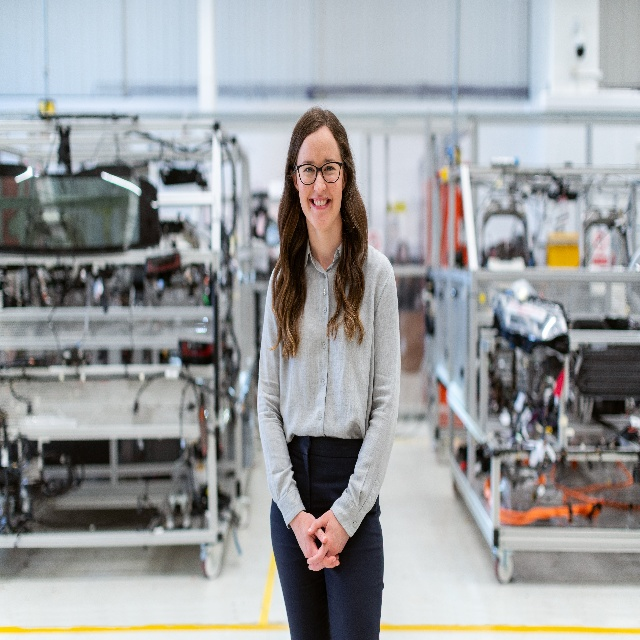Gafas: (296, 161, 343, 186)
Sin_guantes: (305, 511, 347, 571), (297, 513, 340, 571)
